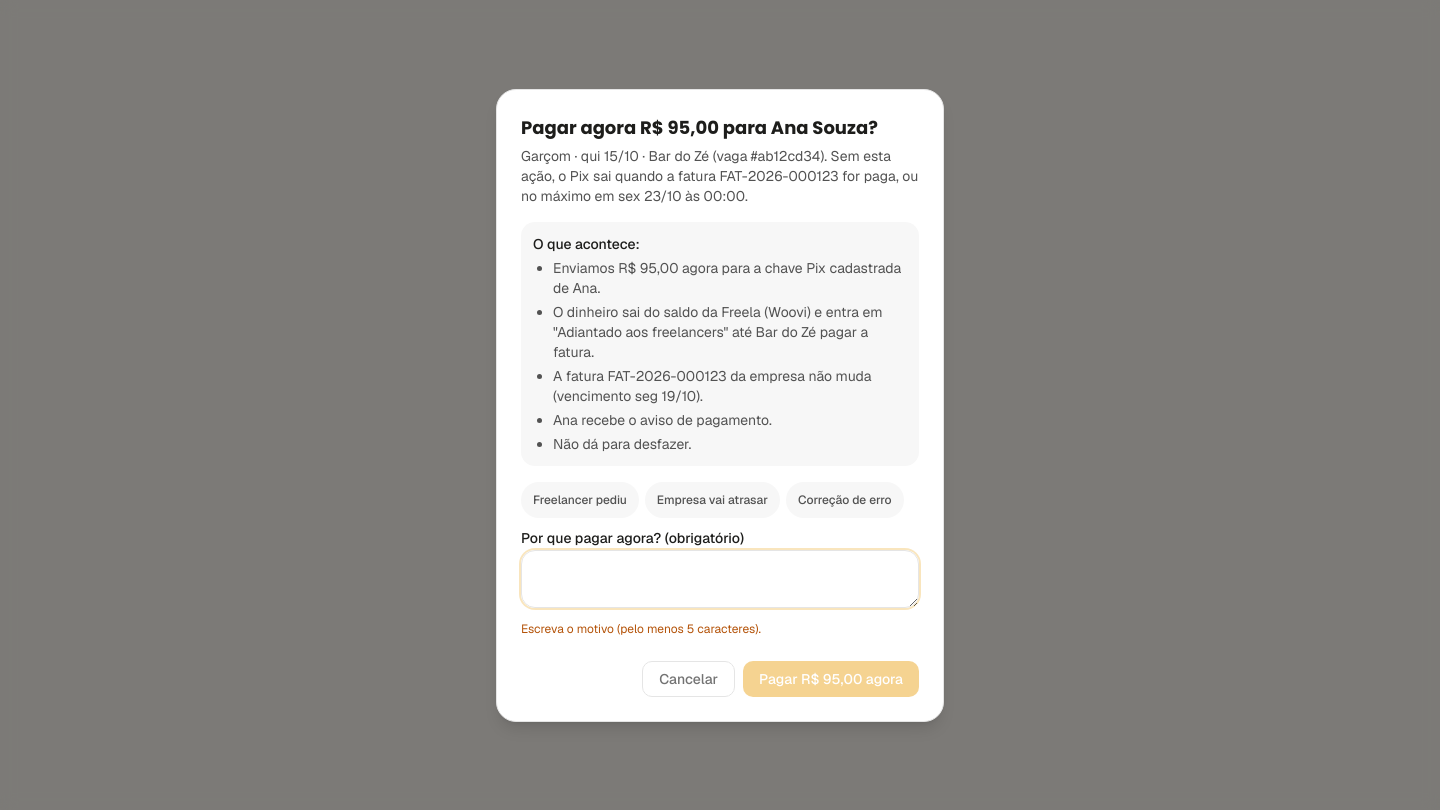
Test: ReleasePayoutDialog › motivo com menos de 5 caracteres: botão desabilitado e o porquê embaixo do campo
Check: the button "Pagar R$ 95,00 agora" is disabled, box [743,660,919,696]
Type "abc " into the text box labelled "Por que pagar agora? (obrigatório)" at (720, 578), box [521,550,919,608]
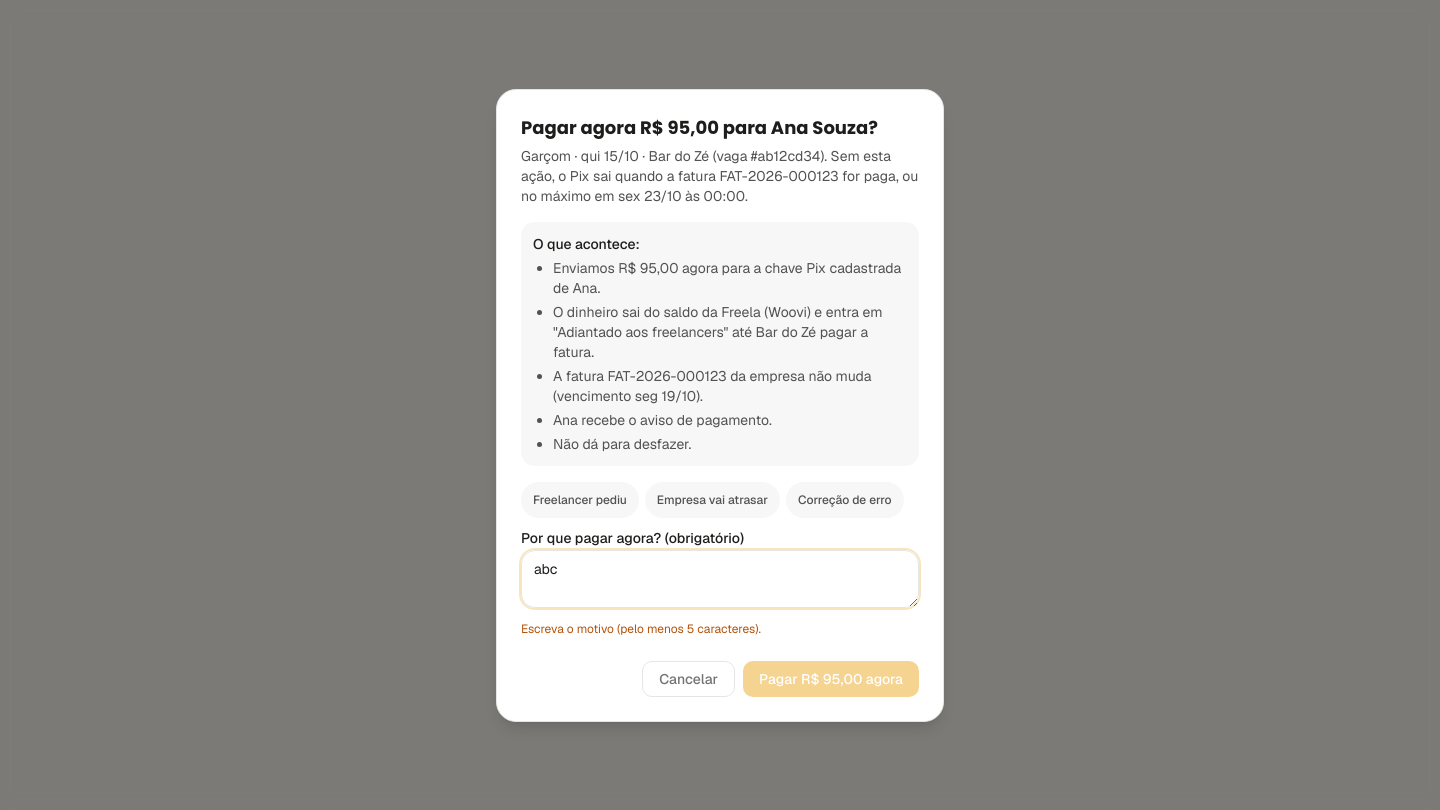
Check: the button "Pagar R$ 95,00 agora" is disabled, box [743,660,919,696]
Check: the text "Escreva o motivo (pelo menos 5 caracteres)." is shown, box [521,620,761,636]
Replace the text in the text box labelled "Por que pagar agora? (obrigatório)" with "Freelancer pediu" at (720, 578), box [521,550,919,608]
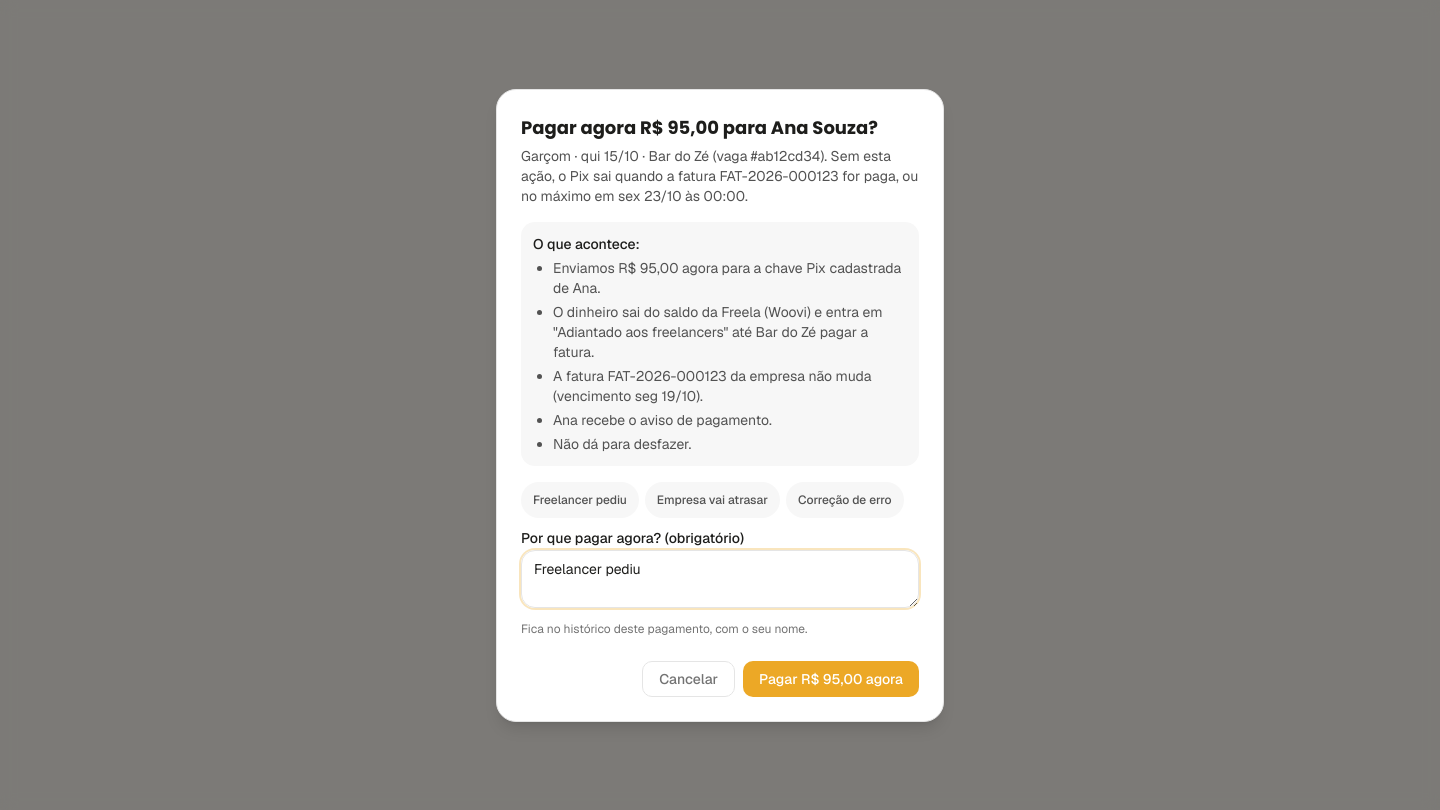
Check: the button "Pagar R$ 95,00 agora" is enabled, box [743,660,919,696]
